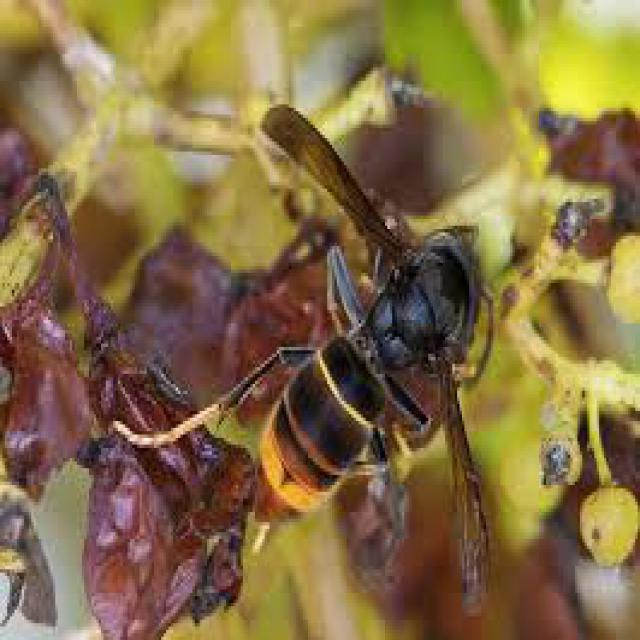Vespa Velutina: (104, 88, 510, 622)
